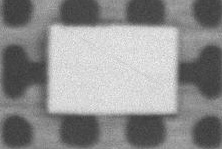DIE_CRACK: (91, 17, 222, 58)
